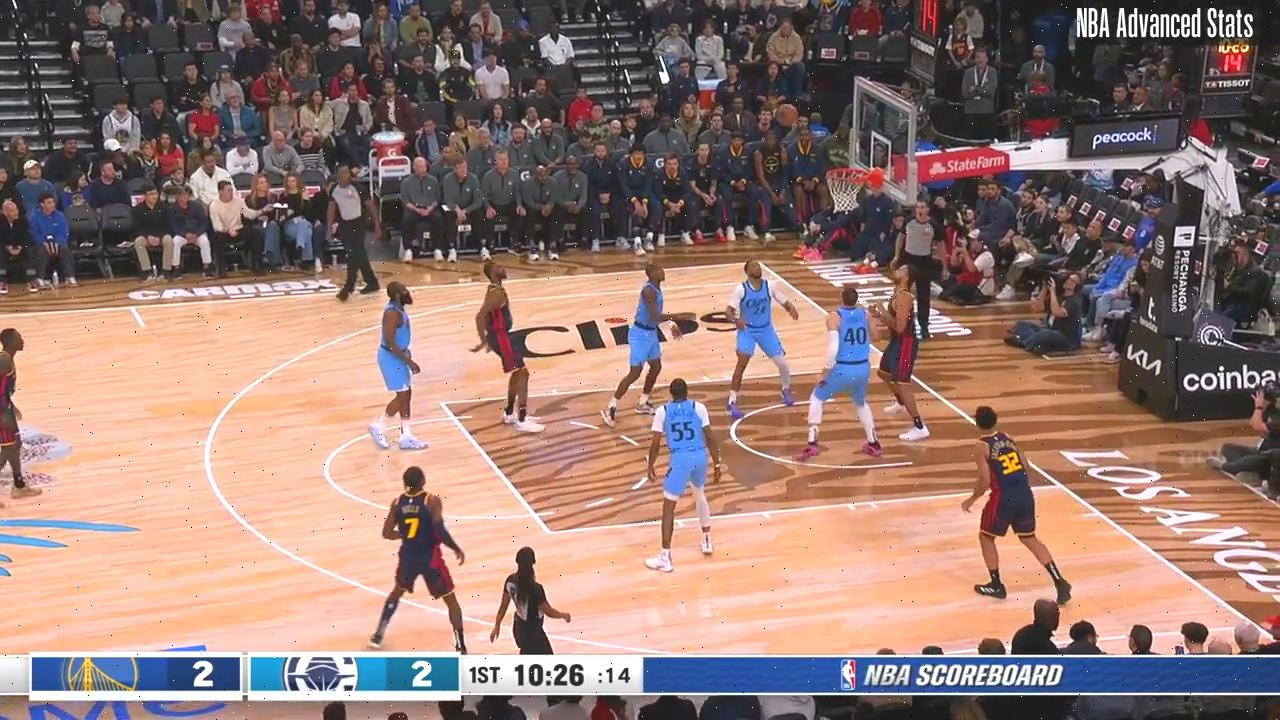basketball: (774, 99, 802, 129)
